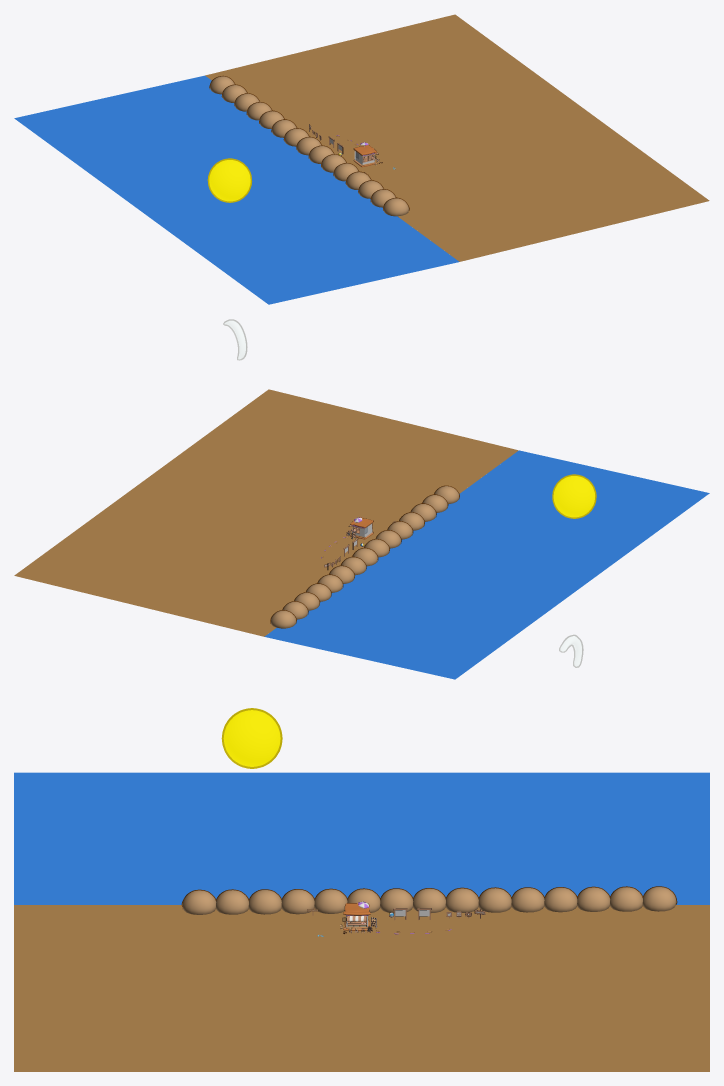
The model's file is Capybara_Cafe.glb.
The picture shows the model from 3 angles, top to bottom: view 1: azimuth 30°, elevation 25°; view 2: azimuth 150°, elevation 25°; view 3: azimuth 270°, elevation 25°; orthographic projection. The views are drawn at different scales.
Parts seen in each view (by area): view 1: Cozy_Cafe, Sun; view 2: Cozy_Cafe, Sun, Moon; view 3: Cozy_Cafe, Sun.
Part boxes in pixels (left/top/right/bottom): Cozy_Cafe: left=14, top=14, right=709, bottom=304; Sun: left=207, top=158, right=252, bottom=202; Cozy_Cafe: left=14, top=389, right=709, bottom=679; Sun: left=552, top=474, right=596, bottom=518; Moon: left=559, top=634, right=583, bottom=667; Cozy_Cafe: left=14, top=772, right=709, bottom=1071; Sun: left=221, top=708, right=282, bottom=768.
Bounding box in the file's own units: 128 × 54.62 × 128.
Materials: 83 (6 with a texture image).
